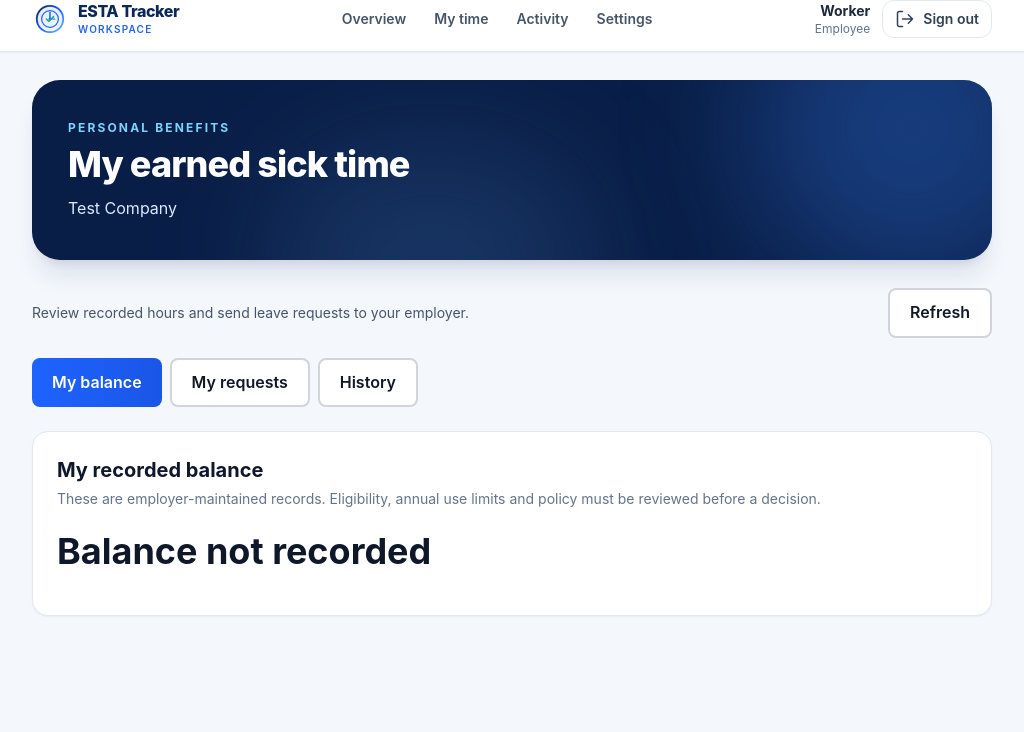
Test: connected employee workspace › preserves the operation ID when retrying an uncertain submission
The image size is (1024, 732).
Click the tab "My requests": (240, 382) [170,358,310,407]
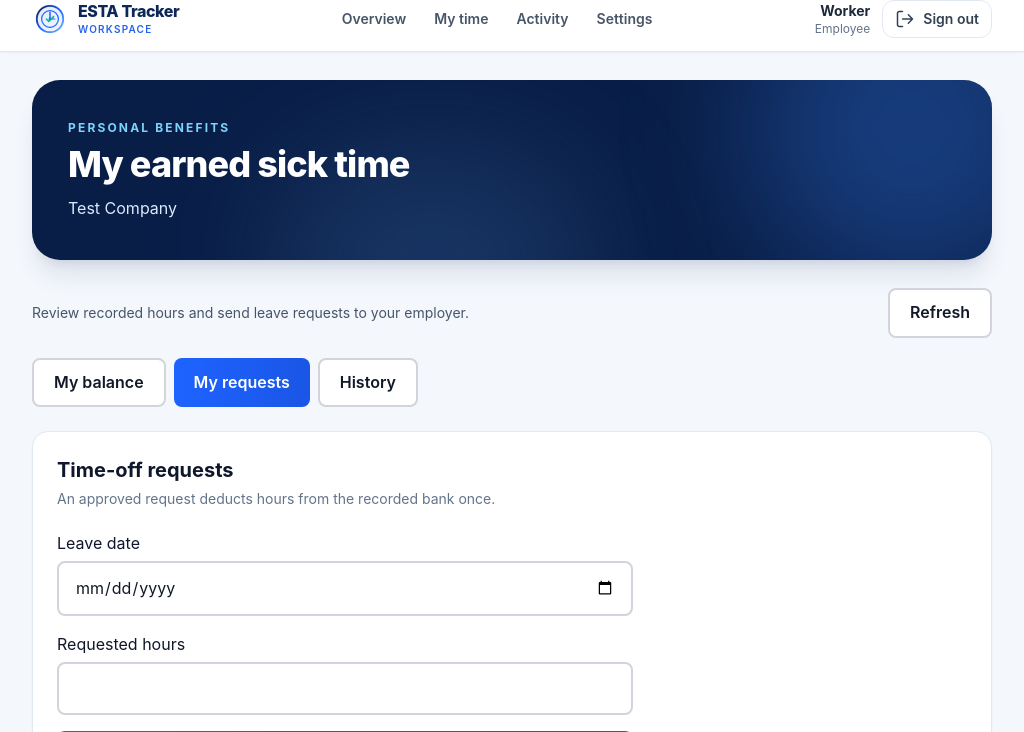
In the date field labelled "Leave date": (345, 588) [57,560,633,616], type "2026-12-01"
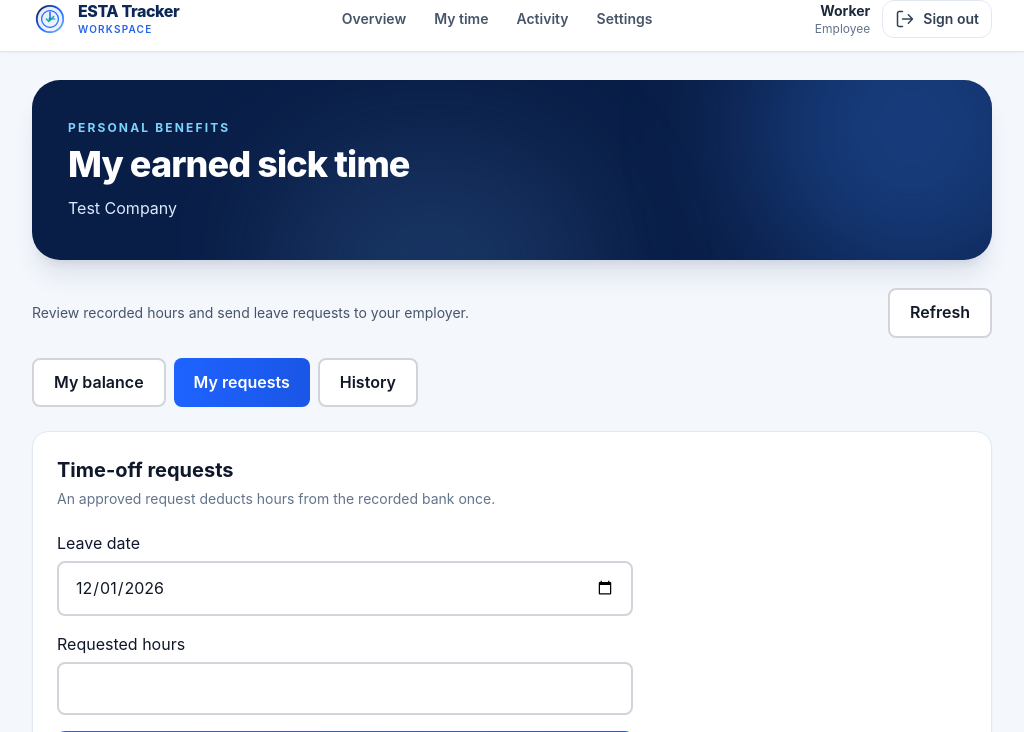
In the number field labelled "Requested hours": (345, 688) [57,662,633,715], type "2"
(page scrolled)
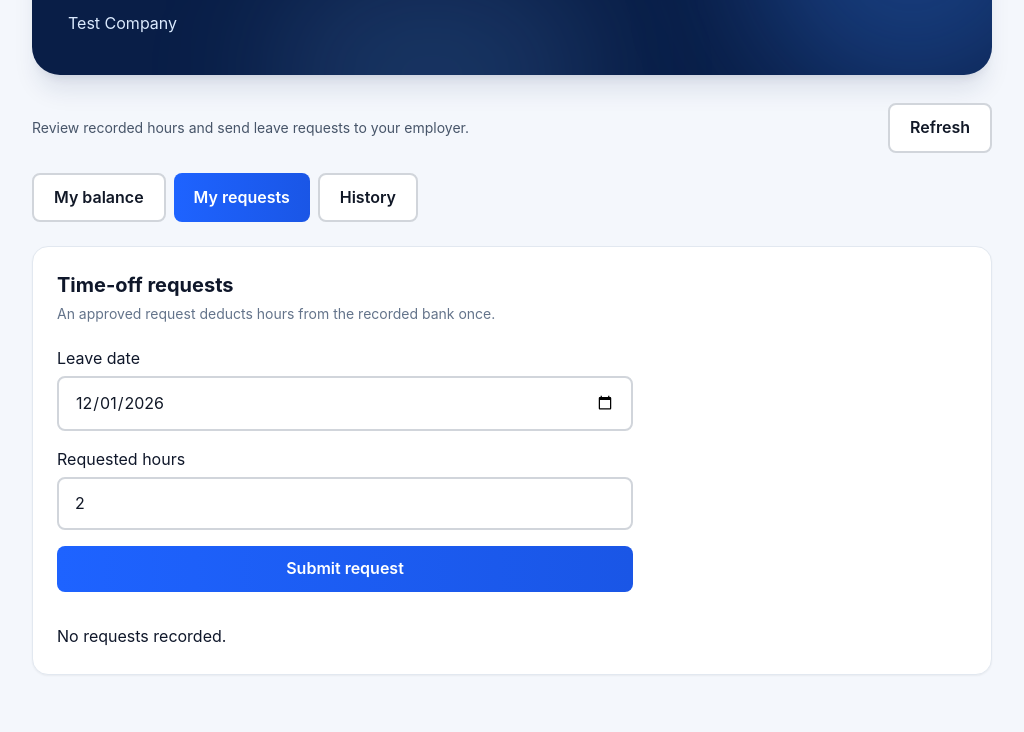
Click the button "Submit request": (345, 569) [57,546,633,592]
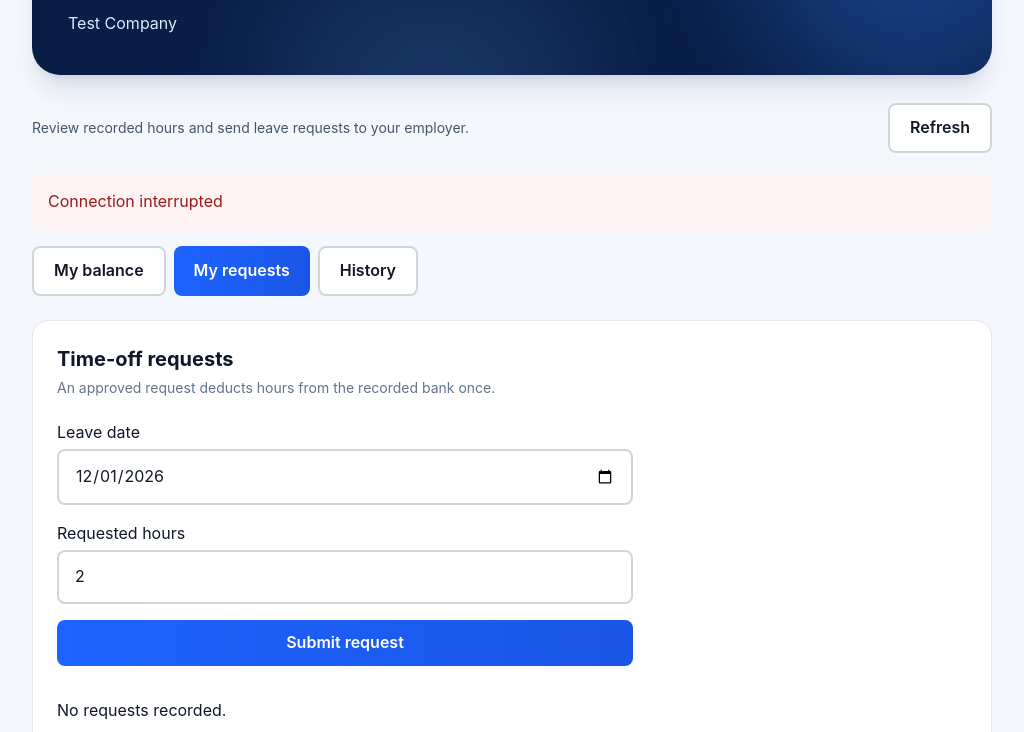
Check: the message reads "Connection interrupted", box [48,191,223,211]
Click the button "Submit request": (345, 643) [57,620,633,666]
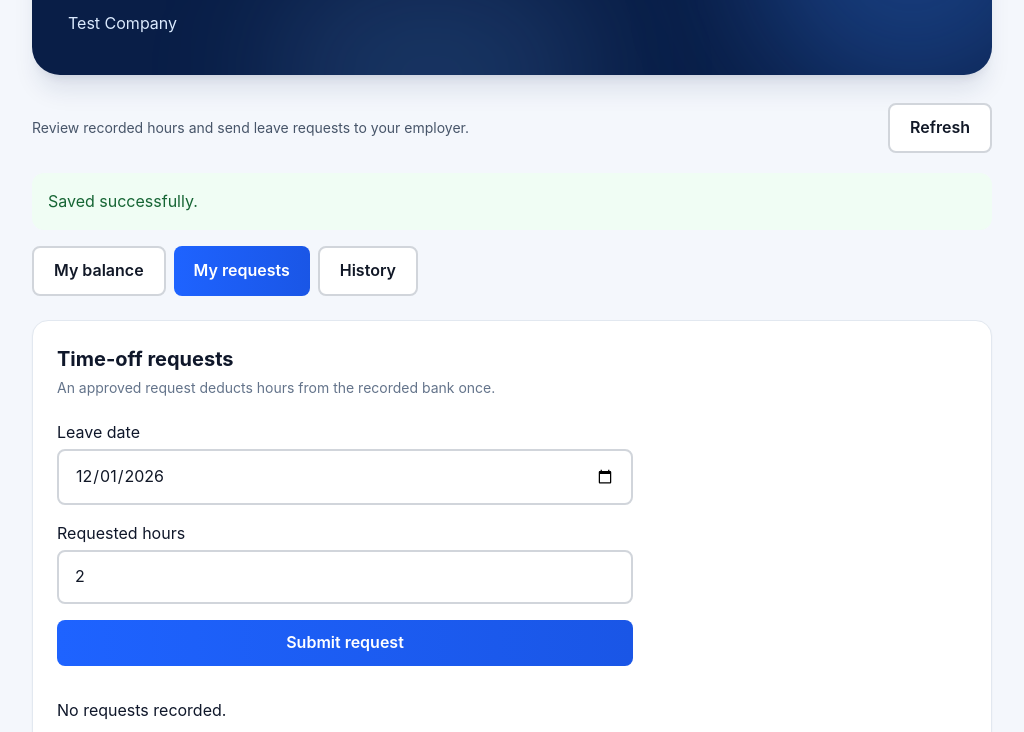
Check: the text "Saved successfully." is shown, box [32,173,992,230]
